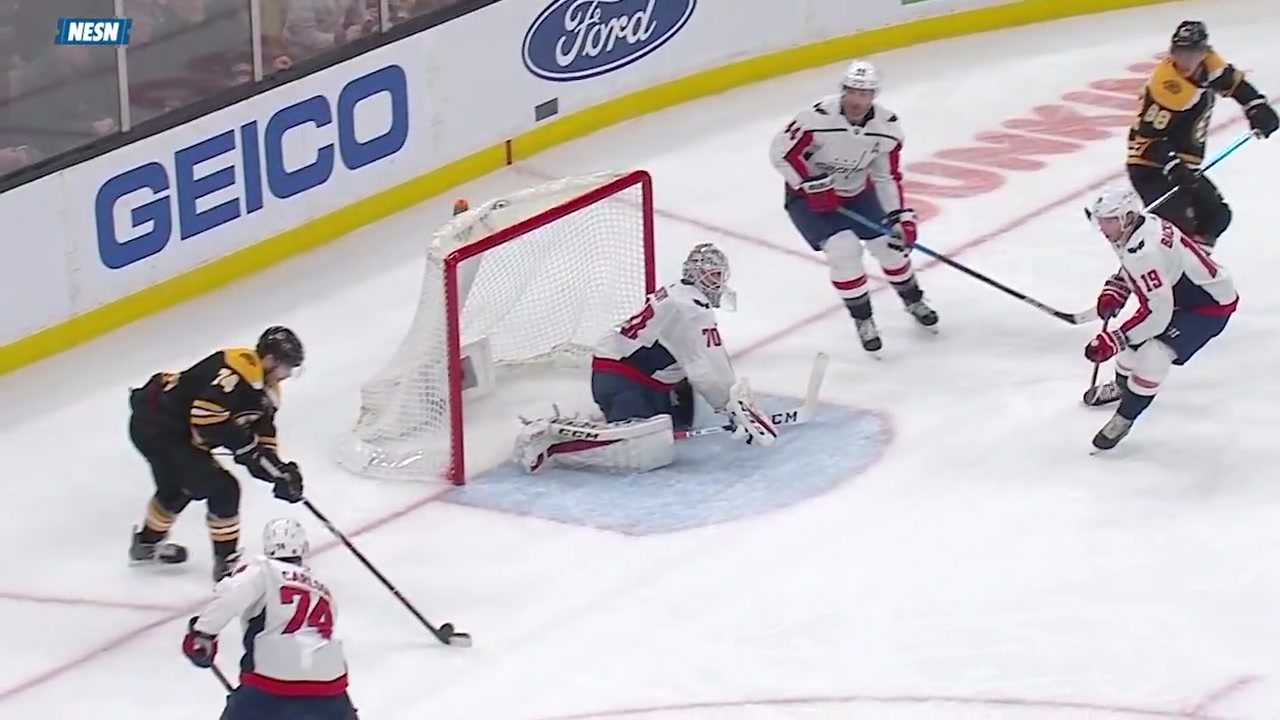geico: (94, 62, 423, 275)
